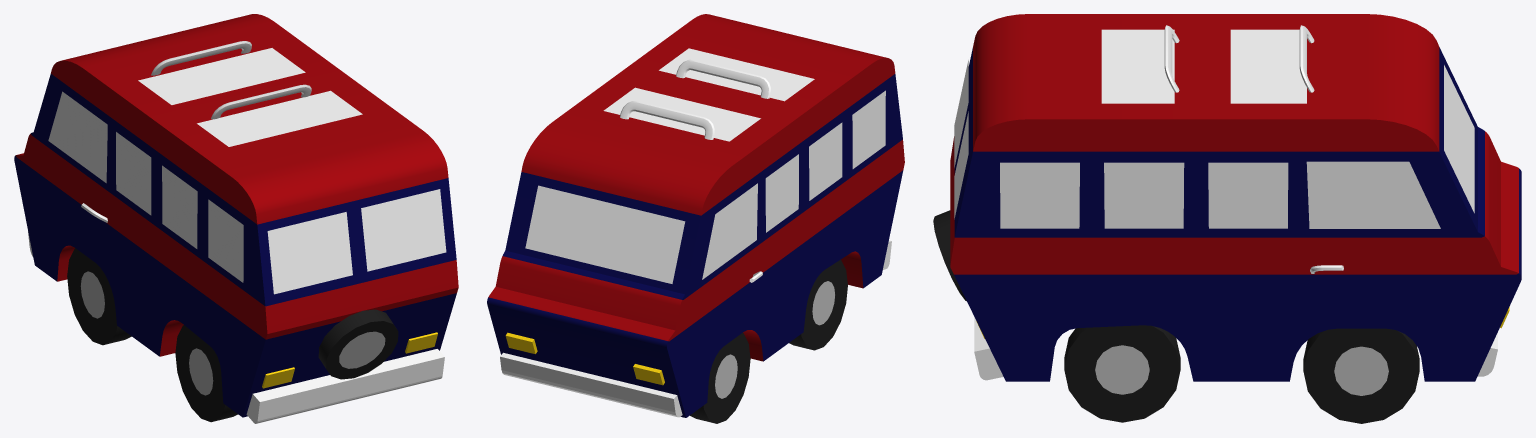
The model's file is исландия_дляигры (2).fbx.
3 renders of one model, left to right at view 1: azimuth 30°, elevation 25°; view 2: azimuth 150°, elevation 25°; view 3: azimuth 270°, elevation 25°, orthographic. The views are drawn at different scales.
Parts seen in each view (by area): view 1: Cube, Plane.007, Cube.002, Plane.004, Plane.003, Plane, Plane.001, Cylinder.006, Cylinder.001, Cylinder, Plane.002, Cylinder.005 (+3 smaller); view 2: Cube, Plane.005, Plane.007, Cube.001, Plane, Cylinder.001, Cylinder, Plane.001, Plane.002, Cylinder.004, Cylinder.005, Cube.003 (+1 smaller); view 3: Cube, Plane.007, Cylinder, Cylinder.001, Plane.002, Plane, Plane.001, Plane.005, Cube.002, Cylinder.006, Plane.004, Plane.003 (+2 smaller).
Part boxes in pixels (bbox=[...]): Cube: bbox=[14, 14, 458, 417]; Plane.007: bbox=[116, 132, 243, 282]; Cube.002: bbox=[246, 349, 444, 423]; Plane.004: bbox=[361, 189, 446, 271]; Plane.003: bbox=[267, 212, 352, 294]; Plane: bbox=[138, 48, 305, 104]; Plane.001: bbox=[197, 90, 362, 146]; Cylinder.006: bbox=[318, 309, 398, 379]; Cylinder.001: bbox=[67, 248, 131, 345]; Cylinder: bbox=[175, 325, 237, 422]; Plane.002: bbox=[48, 91, 107, 183]; Cylinder.005: bbox=[211, 84, 311, 119]; Cube: bbox=[487, 14, 904, 417]; Plane.005: bbox=[525, 185, 685, 283]; Plane.007: bbox=[765, 90, 885, 232]; Cube.001: bbox=[500, 352, 682, 417]; Plane: bbox=[603, 87, 760, 141]; Cylinder.001: bbox=[690, 332, 750, 423]; Cylinder: bbox=[789, 259, 847, 350]; Plane.001: bbox=[659, 48, 814, 101]; Plane.002: bbox=[702, 183, 757, 279]; Cylinder.004: bbox=[620, 101, 714, 139]; Cylinder.005: bbox=[676, 59, 770, 98]; Cube.003: bbox=[505, 332, 537, 354]; Cube: bbox=[950, 14, 1521, 381]; Plane.007: bbox=[1000, 162, 1288, 228]; Cylinder: bbox=[1064, 325, 1180, 422]; Cylinder.001: bbox=[1303, 328, 1419, 423]; Plane.002: bbox=[1306, 161, 1440, 228]; Plane: bbox=[1230, 29, 1306, 103]; Plane.001: bbox=[1101, 29, 1174, 103]; Plane.005: bbox=[1444, 65, 1474, 213]; Cube.002: bbox=[974, 317, 1003, 380]; Cylinder.006: bbox=[933, 210, 966, 300]; Plane.004: bbox=[954, 111, 968, 219]; Plane.003: bbox=[954, 60, 968, 167].
Size of the model in its own units: 134 by 172 by 279.
